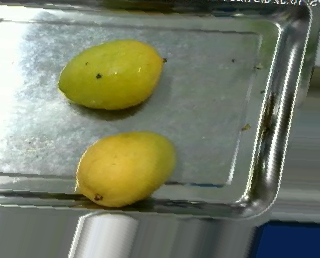Mango: (58, 35, 167, 113), (71, 126, 174, 205)
